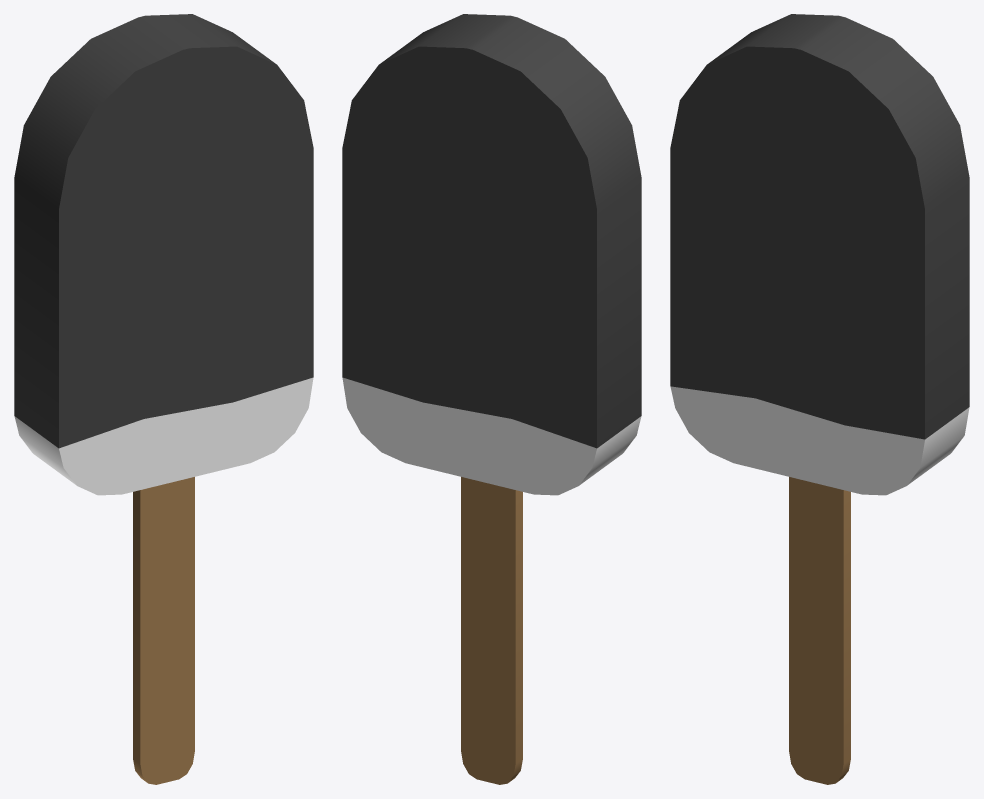
File: Ice Cream_4.fbx
3 views of the same model, side by side, from view 1: azimuth 30°, elevation 25°; view 2: azimuth 150°, elevation 25°; view 3: azimuth 330°, elevation 25° (orthographic).
Parts seen in each view (by area): view 1: Ice Cream_4; view 2: Ice Cream_4; view 3: Ice Cream_4.
Boxes of the visible parts, <box> form: Ice Cream_4: <box>14,14,313,784</box>; Ice Cream_4: <box>342,14,641,784</box>; Ice Cream_4: <box>670,14,969,784</box>.
Size of the model in its own units: 0.0354 by 0.0992 by 0.0107.
